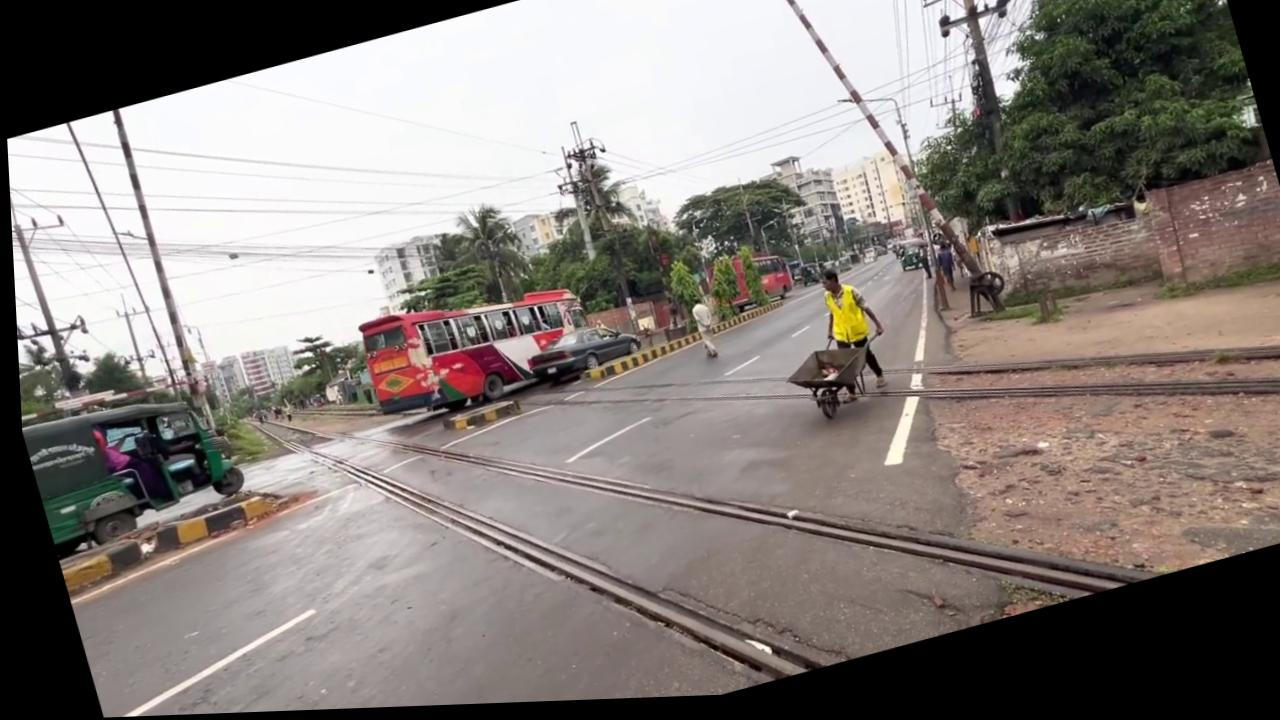Bollard: (516, 318, 642, 390)
Broken-road: (565, 302, 787, 389)
Downstairs: (773, 339, 880, 433)
Fence: (800, 264, 895, 410), (684, 300, 718, 364)
Garbage: (744, 0, 983, 323), (106, 106, 210, 439)
Motorcycle: (402, 372, 871, 709)
Railroad-crossing: (436, 197, 534, 317), (281, 330, 338, 392)
Rickshaw: (15, 372, 247, 557), (697, 246, 794, 324)
